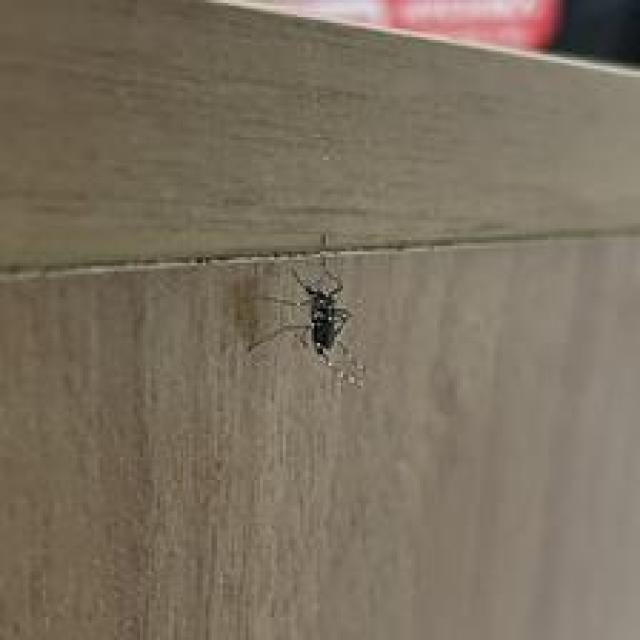Aedes albopictus: (244, 261, 367, 390)
